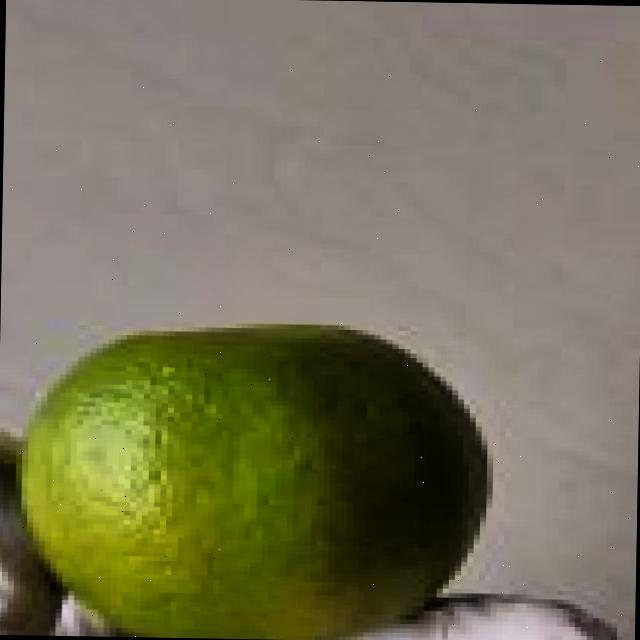Good_Orange-15-21 days: (16, 325, 492, 640)
